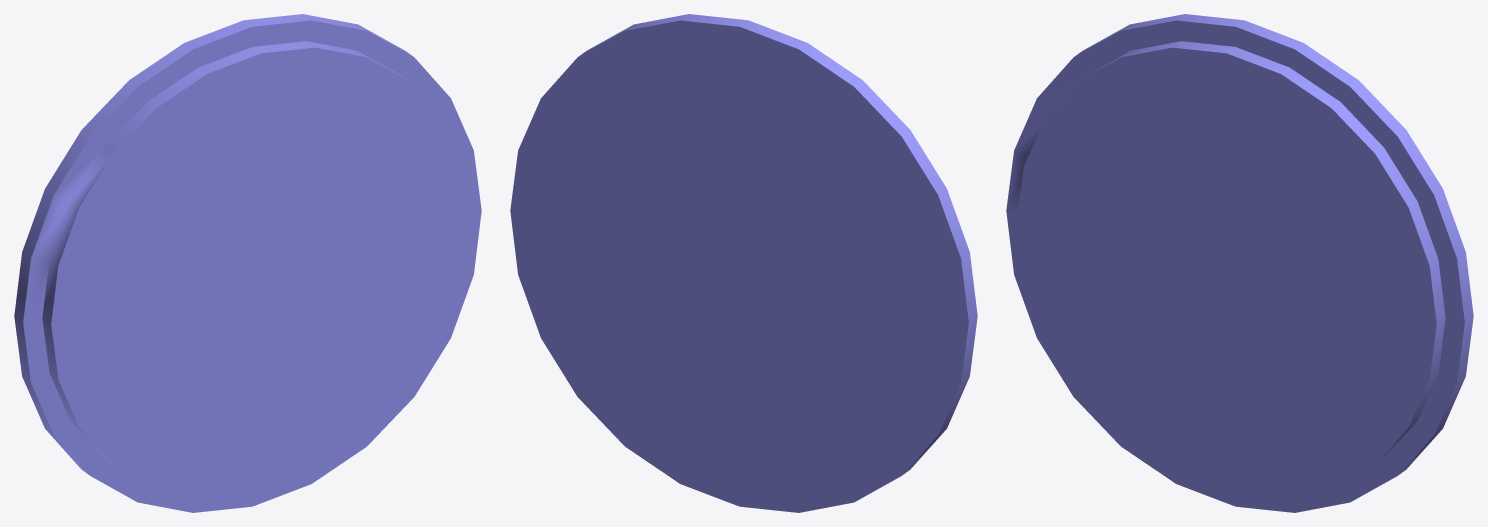
The model's file is original-5.obj.
3 renders of one model, left to right at view 1: azimuth 30°, elevation 25°; view 2: azimuth 150°, elevation 25°; view 3: azimuth 330°, elevation 25°, orthographic.
Visible parts, largest first — view 1: Group5/mesh16/mesh16-geometry#mesh16-geometry; view 2: Group5/mesh16/mesh16-geometry#mesh16-geometry; view 3: Group5/mesh16/mesh16-geometry#mesh16-geometry.
Boxes of the visible parts, box(x1,y1,x2,y2) form: Group5/mesh16/mesh16-geometry#mesh16-geometry: box(14, 14, 481, 512); Group5/mesh16/mesh16-geometry#mesh16-geometry: box(510, 14, 977, 512); Group5/mesh16/mesh16-geometry#mesh16-geometry: box(1006, 14, 1473, 512).
Size of the model in its own units: 0.5397 by 0.5397 by 0.036.
